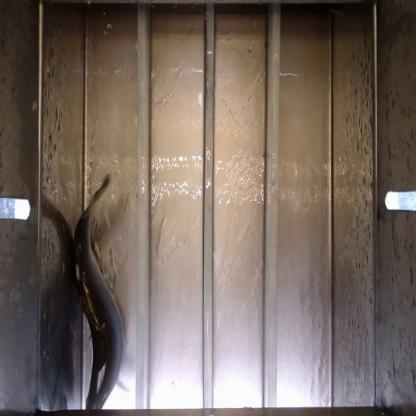pezw: (70, 173, 129, 410)
